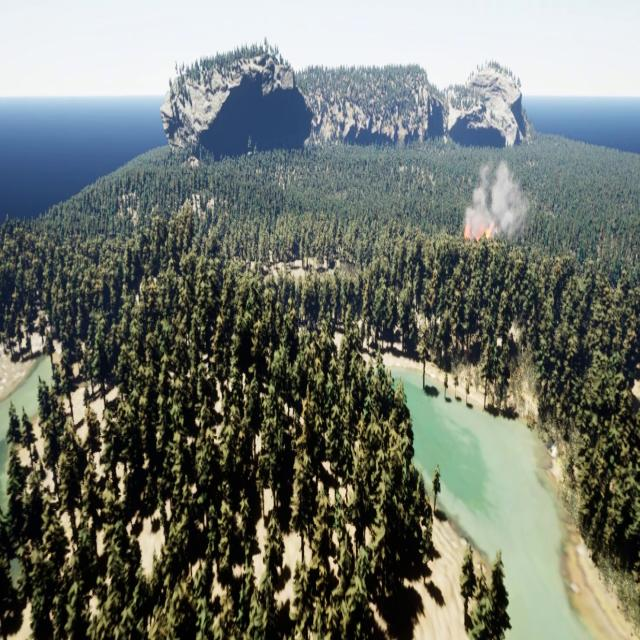fire: (463, 222, 492, 241)
smoke: (463, 154, 532, 238)
